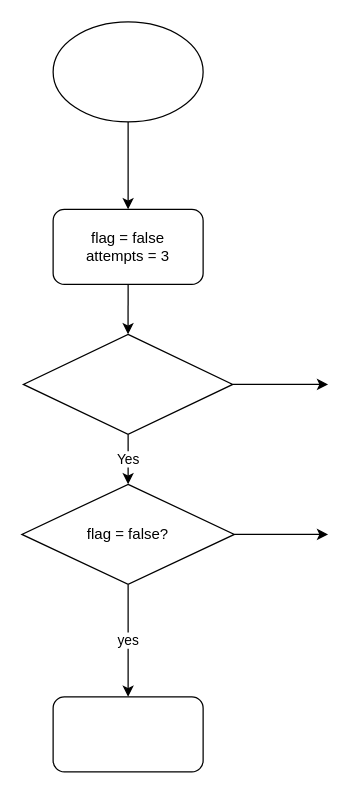
The diagram is 360 pixels wide and 794 high, and some of its shapes have lost their labels. Here are the shapes that lost their labels. From the top down, the centre of each, then its label:
(x=127, y=71): Start (robot user login processing)
(x=127, y=383): attempts > 0
